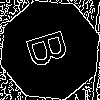B: (25, 25, 79, 70)
